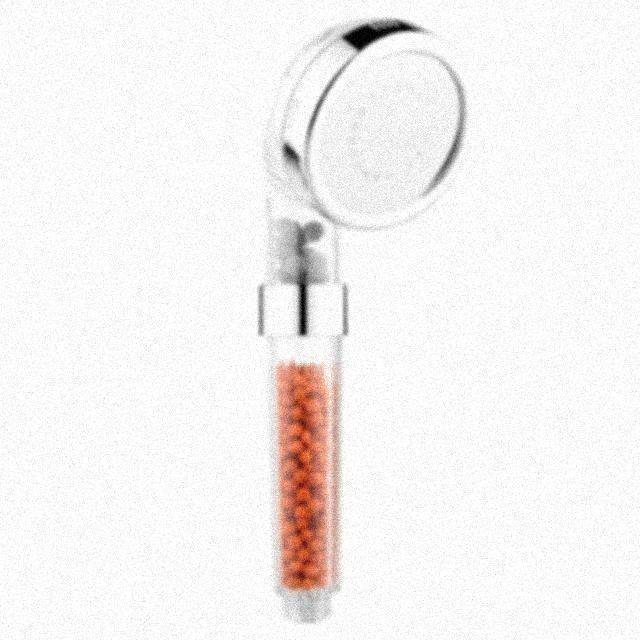Ducha: (229, 12, 513, 635)
